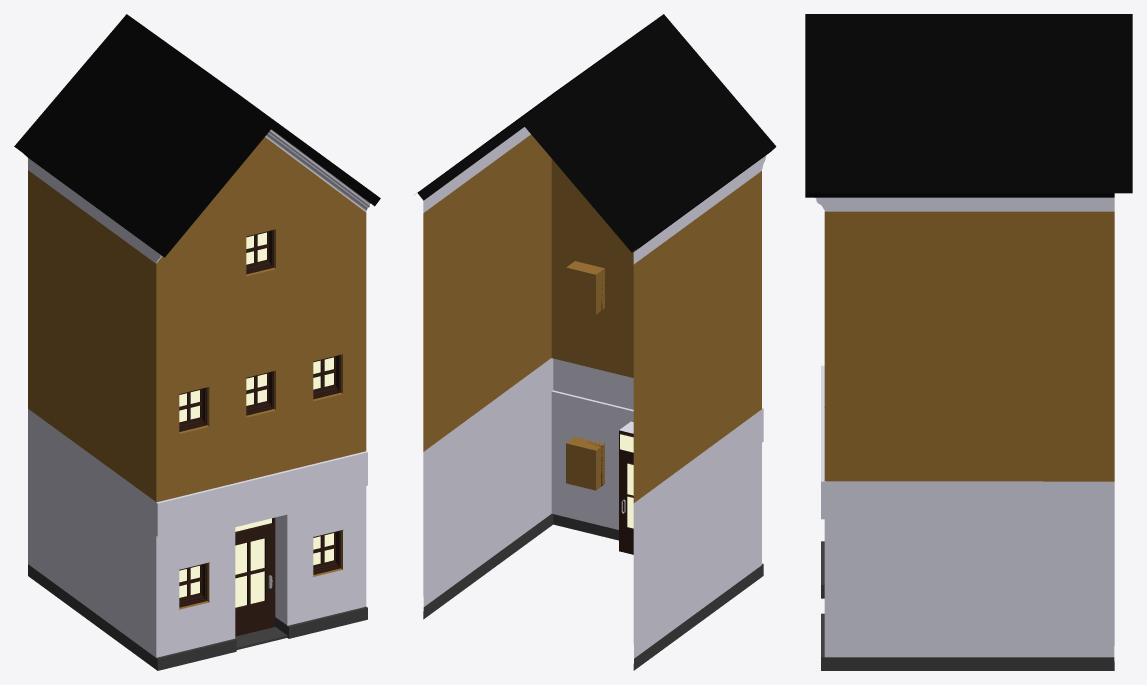
Rendered from home.fbx.
3 renders of one model, left to right at view 1: azimuth 30°, elevation 25°; view 2: azimuth 150°, elevation 25°; view 3: azimuth 270°, elevation 25°, orthographic. The views are drawn at different scales.
Parts seen in each view (by area): view 1: home; view 2: home; view 3: home.
Part boxes in pixels (box(x1,y1,x2,y2)): home: box(14, 14, 380, 670); home: box(417, 14, 776, 670); home: box(805, 14, 1132, 670).
Size of the model in its own units: 502 by 1015 by 445.
